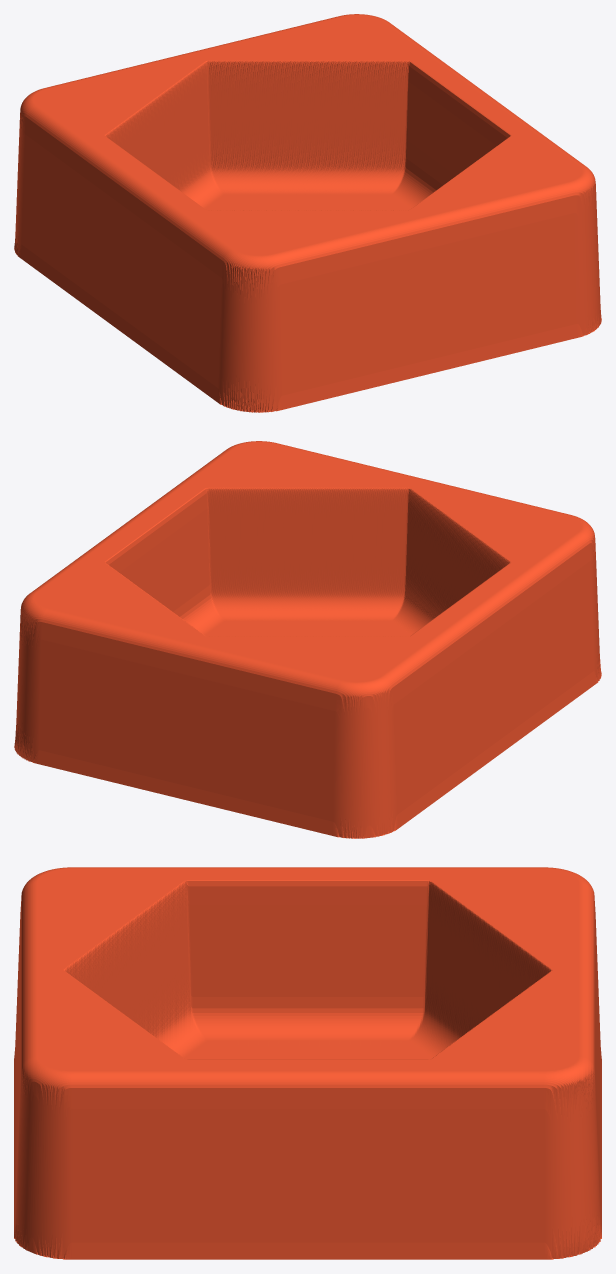
Rendered from mold.glb.
3 views of the same model, one above another, from view 1: azimuth 30°, elevation 25°; view 2: azimuth 150°, elevation 25°; view 3: azimuth 270°, elevation 25° (orthographic). The views are drawn at different scales.
Visible parts, largest first — view 1: geometry_0; view 2: geometry_0; view 3: geometry_0.
Part boxes in pixels (box(x1,y1,x2,y2)): geometry_0: box(14, 14, 601, 412); geometry_0: box(14, 441, 601, 838); geometry_0: box(14, 867, 601, 1259).
Bounding box in the file's own units: 0.0824 × 0.031 × 0.0924.
